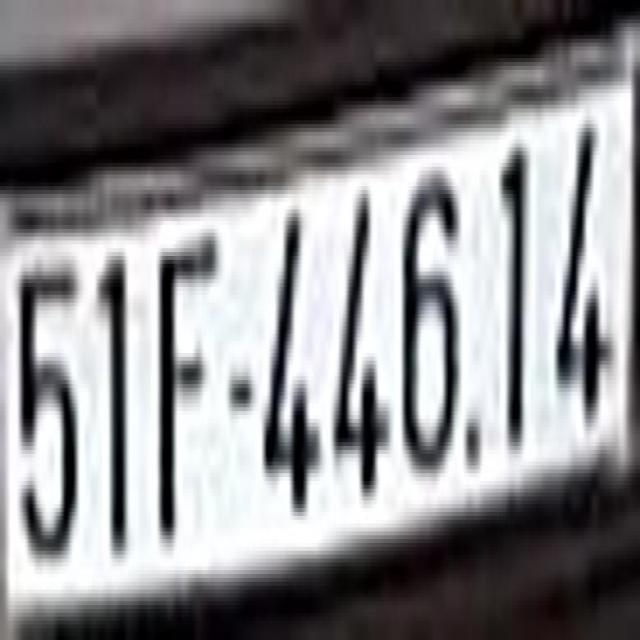1: (95, 237, 130, 578), (498, 132, 528, 465)
4: (331, 163, 390, 500), (552, 109, 611, 438), (265, 209, 319, 516)
5: (13, 256, 84, 559)
6: (400, 159, 460, 493)
F: (157, 233, 219, 543)
